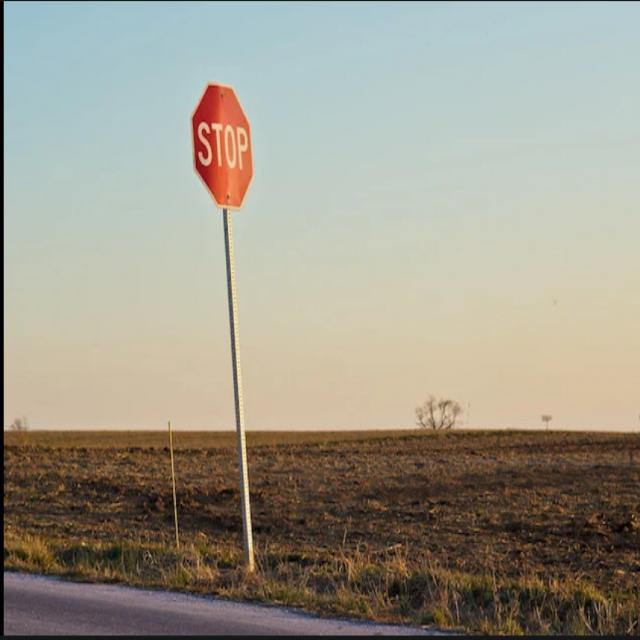stop-sign: (180, 70, 271, 227)
